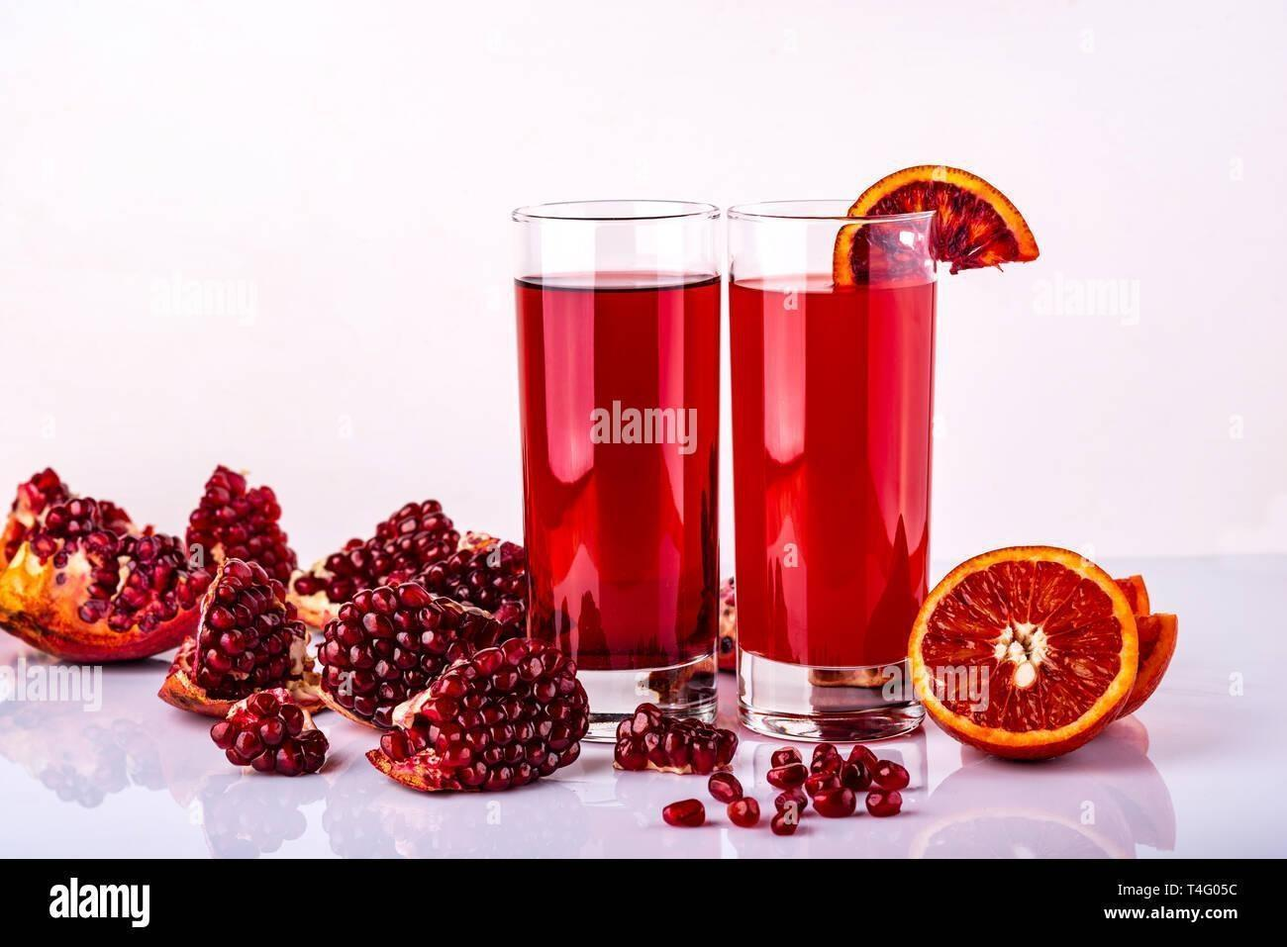glass-normal: (716, 198, 947, 738), (510, 190, 731, 687)
